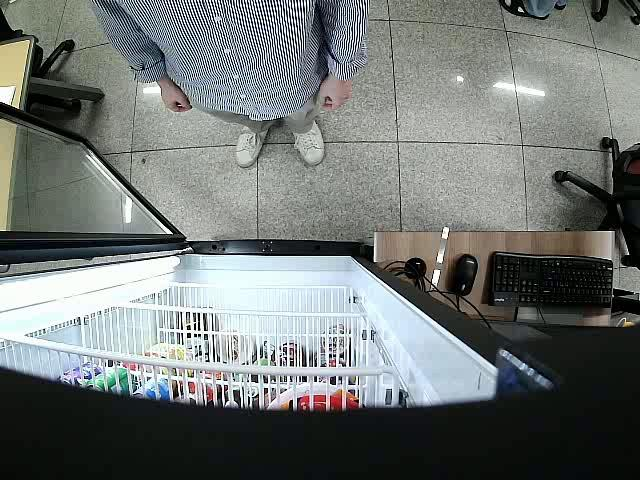00_hand: (315, 79, 350, 113), (160, 84, 192, 113)
